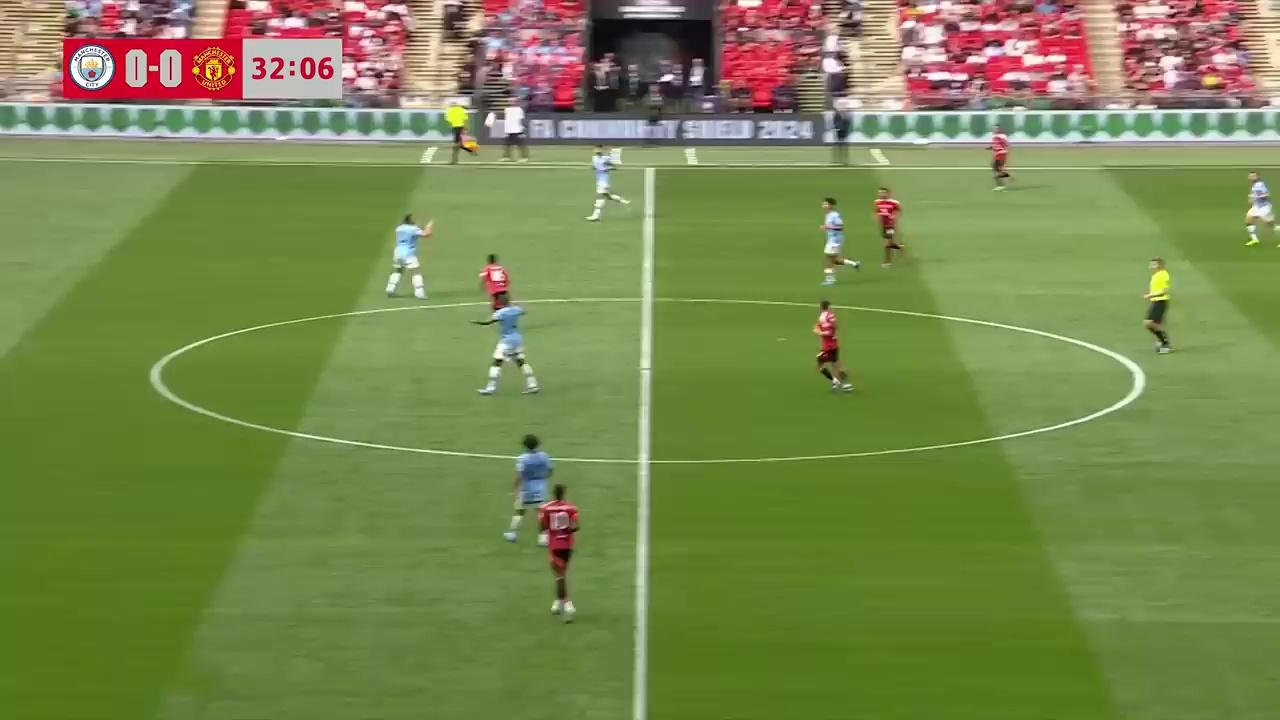player: (476, 292, 540, 395), (536, 482, 580, 623), (503, 432, 556, 543), (383, 212, 433, 301), (811, 297, 854, 393), (818, 197, 861, 285), (587, 145, 627, 222), (1141, 256, 1172, 354), (1244, 171, 1279, 247), (873, 186, 904, 268), (478, 253, 511, 322), (988, 125, 1012, 190)
referee: (1141, 256, 1172, 354), (445, 102, 480, 165)
